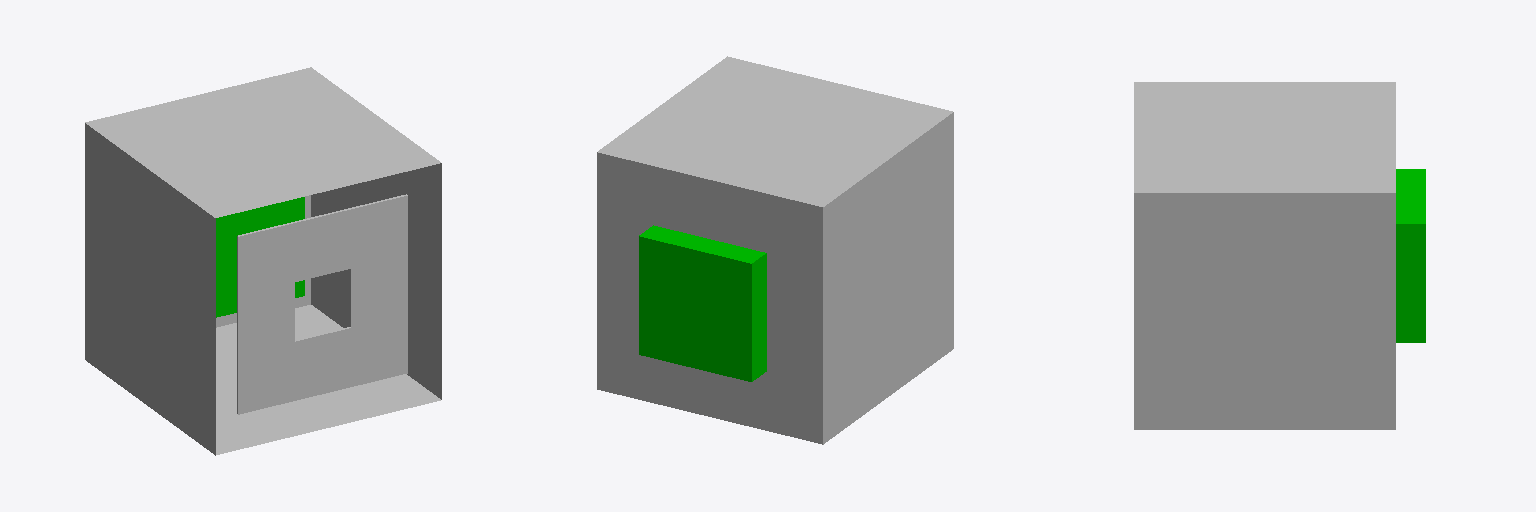
Rendered from Box_IOR.obj.
3 renders of one model, left to right at view 1: azimuth 30°, elevation 25°; view 2: azimuth 150°, elevation 25°; view 3: azimuth 270°, elevation 25°, orthographic.
Parts seen in each view (by area): view 1: Cube.001, Cube, Cube.007, Cube.006, Cube.004, Cube.010, Cube.003, Cube.005, Cube.008, Cube.009; view 2: Cube.001, Cube; view 3: Cube.001, Cube.
Part boxes in pixels (x1,y1,x2,y2): Cube.001: (85, 67, 441, 455); Cube: (216, 197, 304, 317); Cube.007: (237, 222, 294, 295); Cube.006: (350, 194, 407, 268); Cube.004: (237, 282, 294, 354); Cube.010: (237, 342, 294, 414); Cube.003: (350, 255, 407, 327); Cube.005: (294, 208, 350, 281); Cube.008: (295, 327, 350, 400); Cube.009: (351, 314, 407, 386); Cube.001: (597, 56, 953, 444); Cube: (639, 225, 766, 381); Cube.001: (1134, 82, 1395, 429); Cube: (1396, 169, 1425, 342).
Bounding box in the file's own units: 4 × 4 × 4.45.